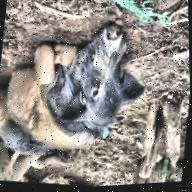boar: (0, 8, 154, 172)
